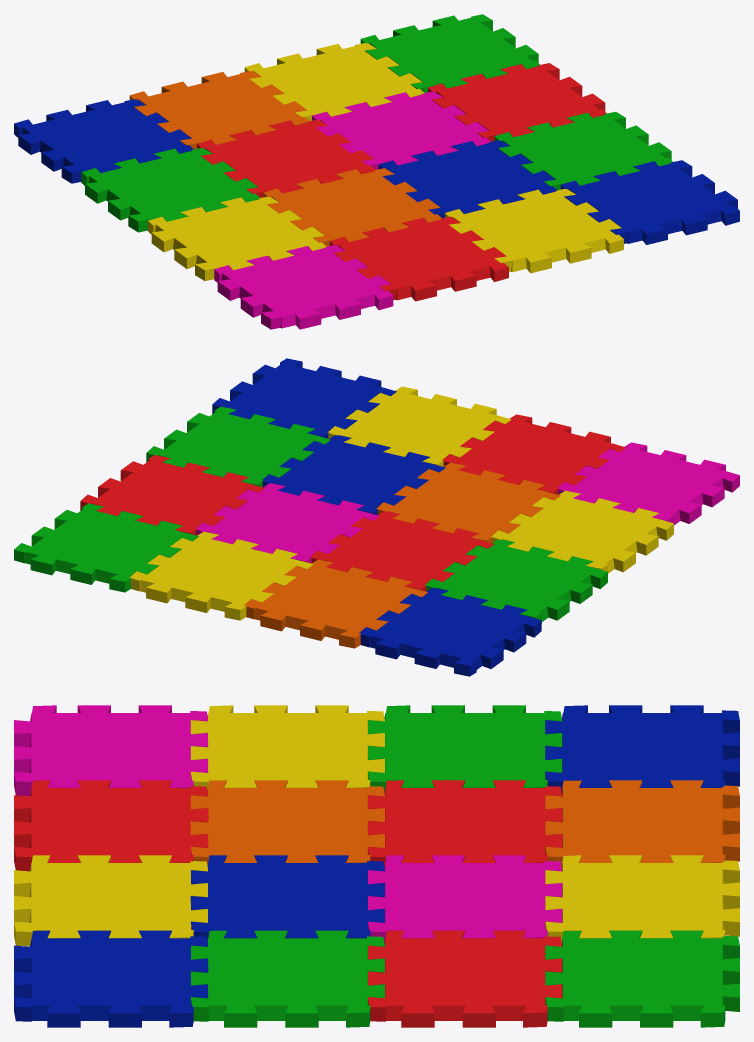
File: FoamMat.fbx
The picture shows the model from 3 angles, top to bottom: view 1: azimuth 30°, elevation 25°; view 2: azimuth 150°, elevation 25°; view 3: azimuth 270°, elevation 25°; orthographic projection. The views are drawn at different scales.
Visible parts, largest first — view 1: FoamMat; view 2: FoamMat; view 3: FoamMat.
Boxes of the visible parts, left/top/right/bottom form: FoamMat: left=14, top=14, right=739, bottom=329; FoamMat: left=14, top=358, right=739, bottom=676; FoamMat: left=14, top=705, right=739, bottom=1027.
Bounding box in the file's own units: 9.18 × 0.2 × 9.15.
